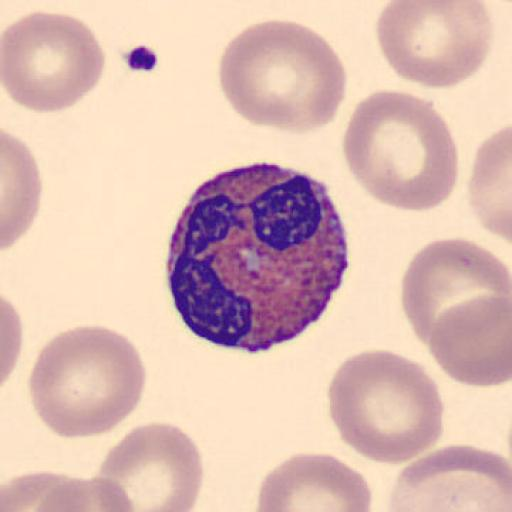RBC: (217, 17, 349, 135), (342, 86, 460, 214), (326, 348, 446, 466), (28, 323, 147, 440), (399, 235, 512, 351), (1, 9, 106, 115), (375, 0, 495, 90), (95, 420, 205, 512), (387, 441, 512, 512), (426, 292, 512, 388), (254, 451, 376, 512), (468, 123, 512, 244), (2, 130, 42, 252), (34, 472, 136, 512), (1, 469, 83, 512), (0, 294, 24, 394), (33, 478, 92, 512)
WBC: (163, 157, 350, 355)
